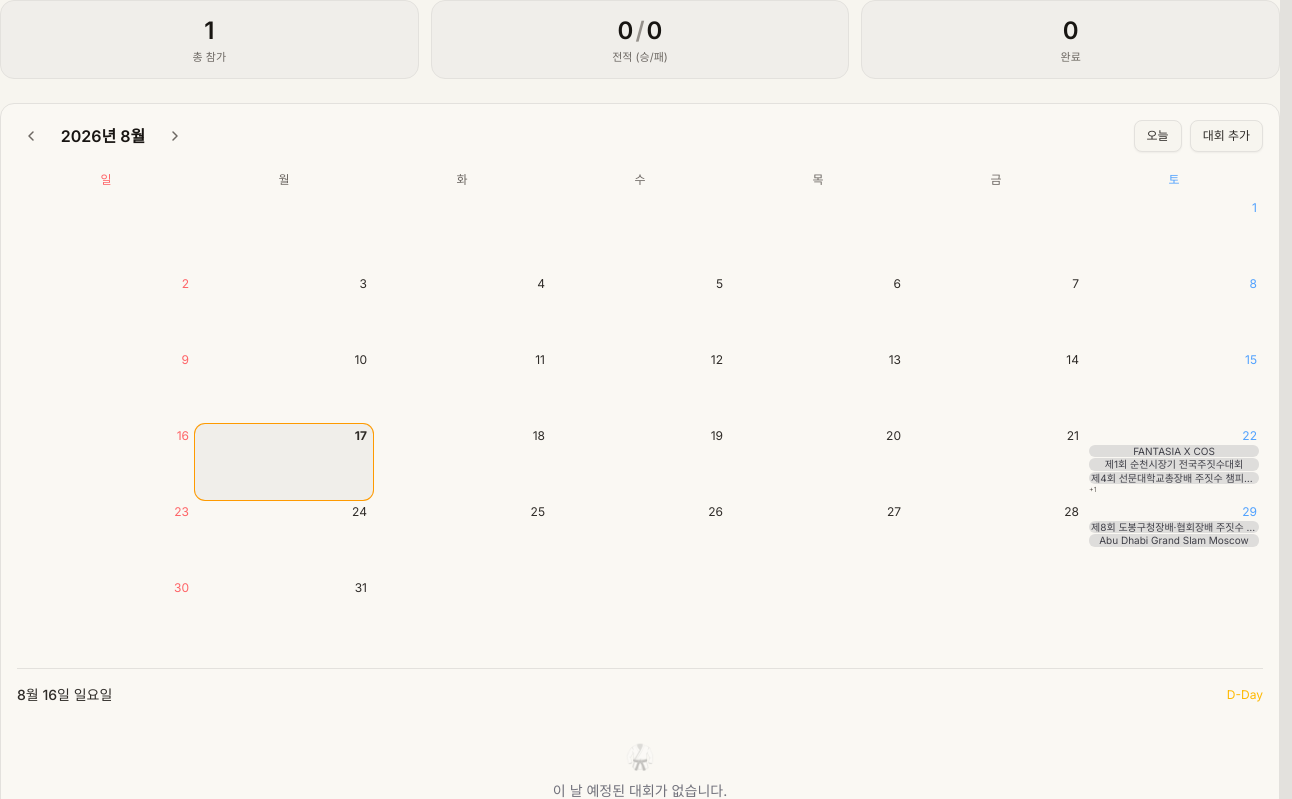
Test: SenseiCompetition › opens a verified event with its registration source
Step 1. Click the button "FANTASIA X COS" → (1174, 462), box [1085,424,1263,500]
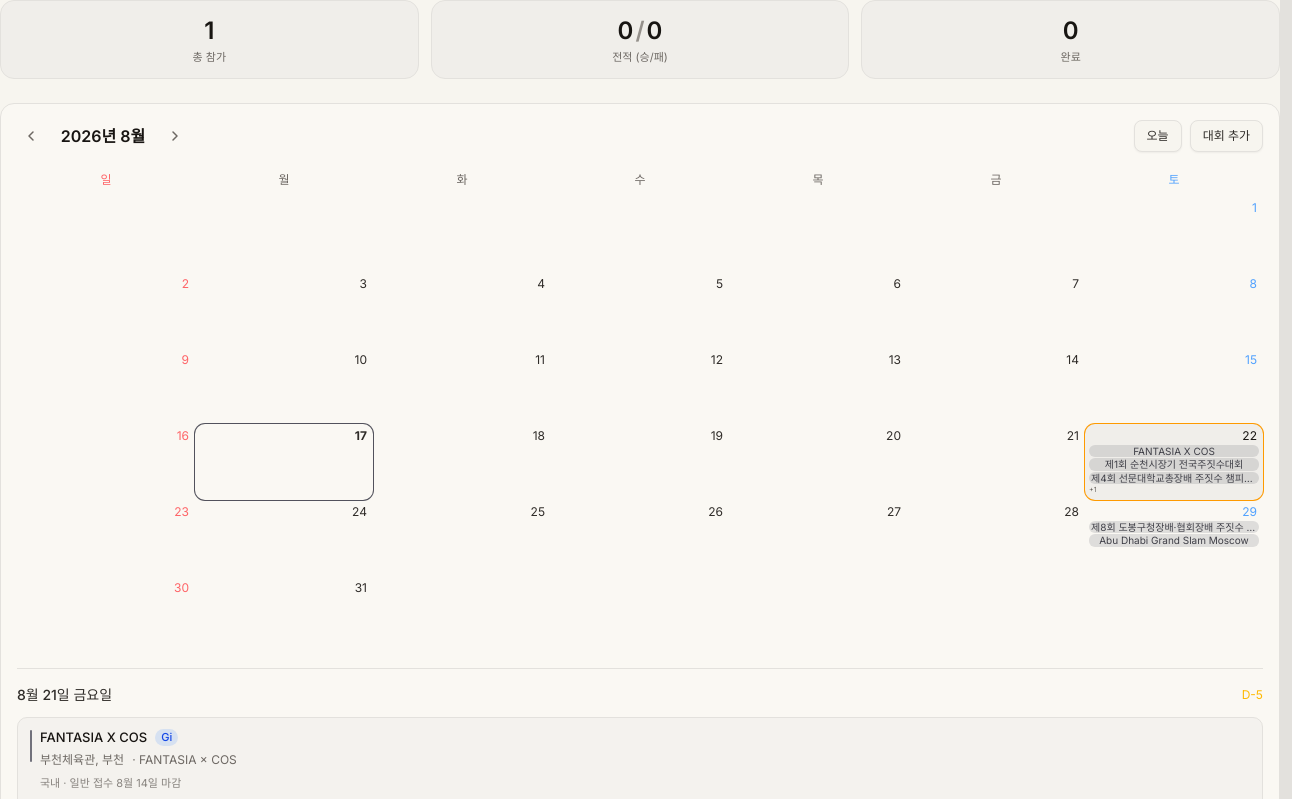
Now the text "국내 · 일반 접수 8월 14일 마감" is shown, box [40,776,181,790]
